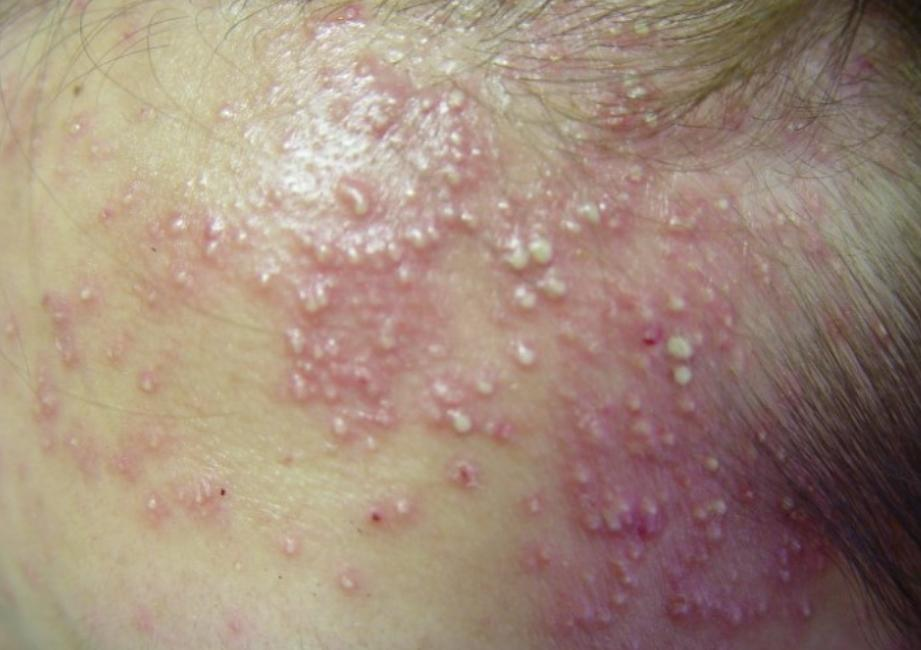purulent: (556, 492, 690, 631), (726, 531, 865, 648), (286, 282, 389, 415), (649, 209, 762, 325), (298, 52, 424, 145), (688, 425, 787, 529), (411, 91, 494, 193), (488, 236, 585, 321), (591, 61, 690, 130), (415, 366, 505, 441), (159, 215, 276, 271), (572, 400, 665, 468), (551, 172, 648, 234), (402, 200, 479, 251), (308, 233, 388, 272), (391, 476, 442, 535), (652, 325, 710, 376), (332, 190, 396, 229), (314, 404, 364, 450), (508, 336, 558, 378), (661, 359, 710, 398)
whitehead: (135, 474, 258, 551), (20, 277, 109, 364), (20, 383, 100, 470)
